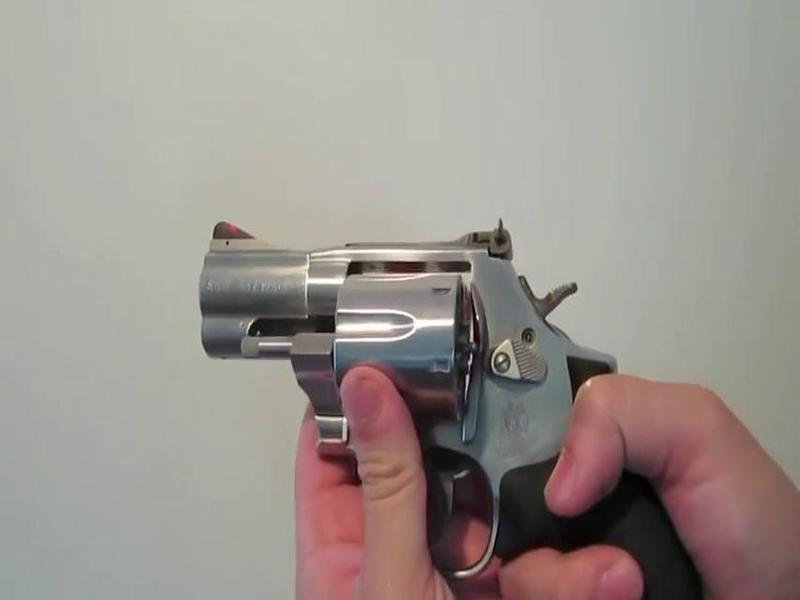Revolver: (159, 163, 684, 555)
